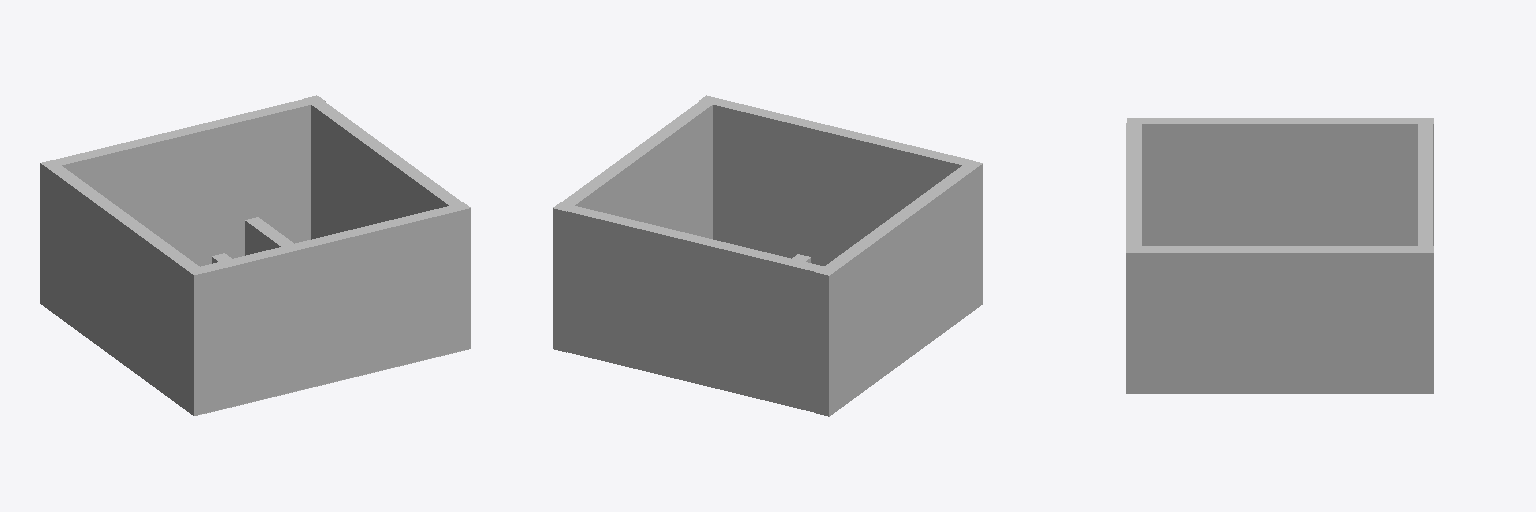
File: level.obj
3 renders of one model, left to right at view 1: azimuth 30°, elevation 25°; view 2: azimuth 150°, elevation 25°; view 3: azimuth 270°, elevation 25°, orthographic.
Parts seen in each view (by area): view 1: Cube_Cube.005_Cube_Cube.002, Cube_Cube.005_Cube_Cube.000, Cube_Cube.005_Cube_Cube.001, Cube_Cube.005_Cube_Cube.006, Cube_Cube.002_Cube_Cube.003; view 2: Cube_Cube.005_Cube_Cube.001, Cube_Cube.005_Cube_Cube.002, Cube_Cube.005_Cube_Cube.000, Cube_Cube.005_Cube_Cube.006; view 3: Cube_Cube.005_Cube_Cube.006, Cube_Cube.005_Cube_Cube.000, Cube_Cube.005_Cube_Cube.002, Cube_Cube.005_Cube_Cube.001.
Part boxes in pixels (x1,y1,x2,y2): Cube_Cube.005_Cube_Cube.002: (198,202,470,413); Cube_Cube.005_Cube_Cube.000: (40,160,204,415); Cube_Cube.005_Cube_Cube.001: (55,96,325,266); Cube_Cube.005_Cube_Cube.006: (304,95,468,239); Cube_Cube.002_Cube_Cube.003: (245,217,293,255); Cube_Cube.005_Cube_Cube.001: (553,202,825,412); Cube_Cube.005_Cube_Cube.002: (699,95,972,265); Cube_Cube.005_Cube_Cube.000: (816,161,982,416); Cube_Cube.005_Cube_Cube.006: (553,100,715,352); Cube_Cube.005_Cube_Cube.006: (1127,246,1433,393); Cube_Cube.005_Cube_Cube.000: (1127,118,1433,245); Cube_Cube.005_Cube_Cube.002: (1126,123,1141,393); Cube_Cube.005_Cube_Cube.001: (1418,123,1432,393).
Bounding box in the file's own units: 208 × 101 × 201.